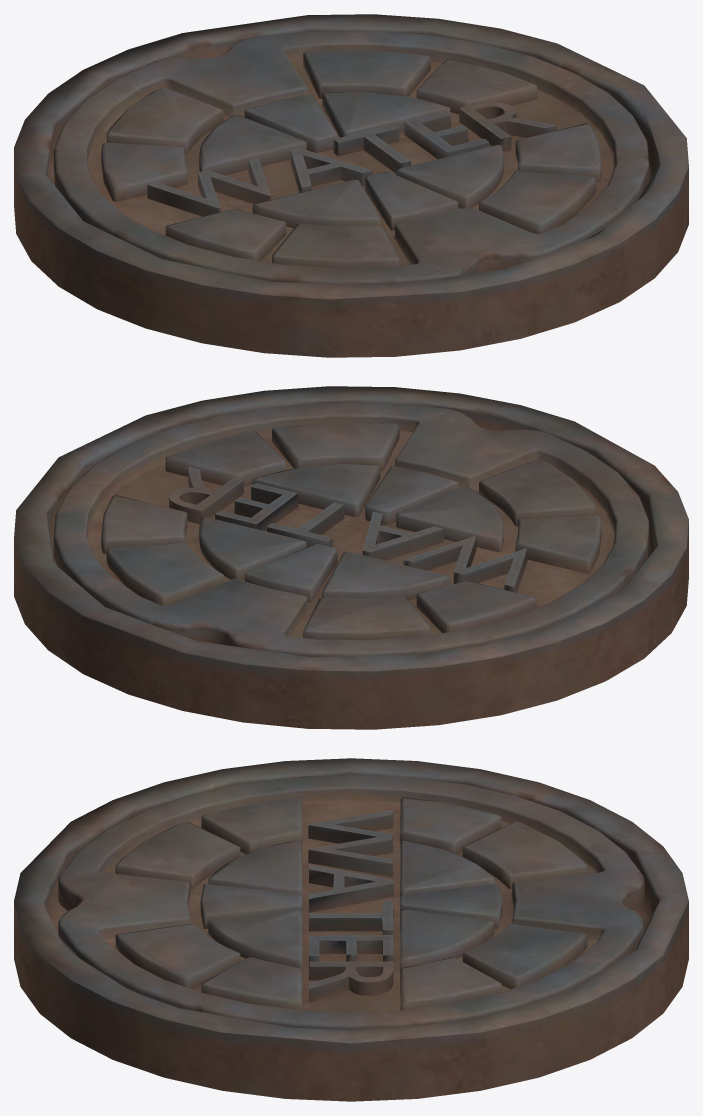
The model's file is water_manhole_cover.lite.glb.
3 renders of one model, top to bottom at view 1: azimuth 30°, elevation 25°; view 2: azimuth 150°, elevation 25°; view 3: azimuth 270°, elevation 25°, orthographic.
Parts seen in each view (by area): view 1: water_manhole_cover_frame; view 2: water_manhole_cover_frame; view 3: water_manhole_cover_frame.
Boxes of the visible parts, <box> form: water_manhole_cover_frame: <box>14,14,688,357</box>; water_manhole_cover_frame: <box>14,386,688,729</box>; water_manhole_cover_frame: <box>14,758,688,1101</box>.
Size of the model in its own units: 0.6908 by 0.0676 by 0.6908.
1 material, 1 textured.
